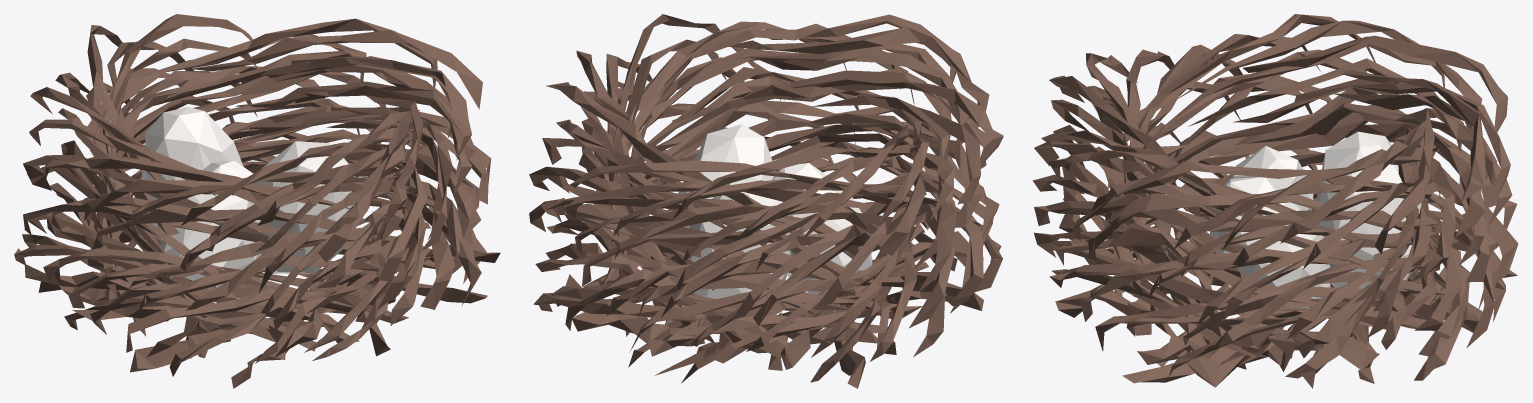
The model's file is Nest_14.fbx.
The picture shows the model from 3 angles, left to right: view 1: azimuth 30°, elevation 25°; view 2: azimuth 150°, elevation 25°; view 3: azimuth 270°, elevation 25°; orthographic projection. The views are drawn at different scales.
Parts seen in each view (by area): view 1: Nest_14_LOD0; view 2: Nest_14_LOD0; view 3: Nest_14_LOD0.
Boxes of the visible parts, bbox=[...] form: Nest_14_LOD0: bbox=[14, 14, 500, 388]; Nest_14_LOD0: bbox=[529, 14, 1003, 388]; Nest_14_LOD0: bbox=[1032, 14, 1518, 388].
Size of what is drawn, in the model's own units: 39.27 by 21.14 by 38.66.
